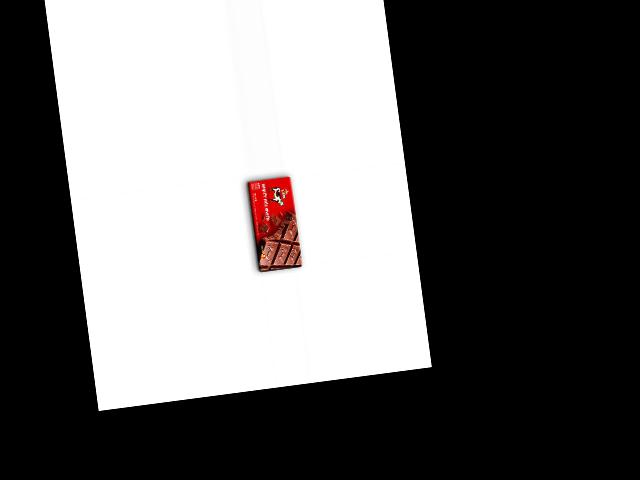chocolate: (243, 173, 304, 274)
